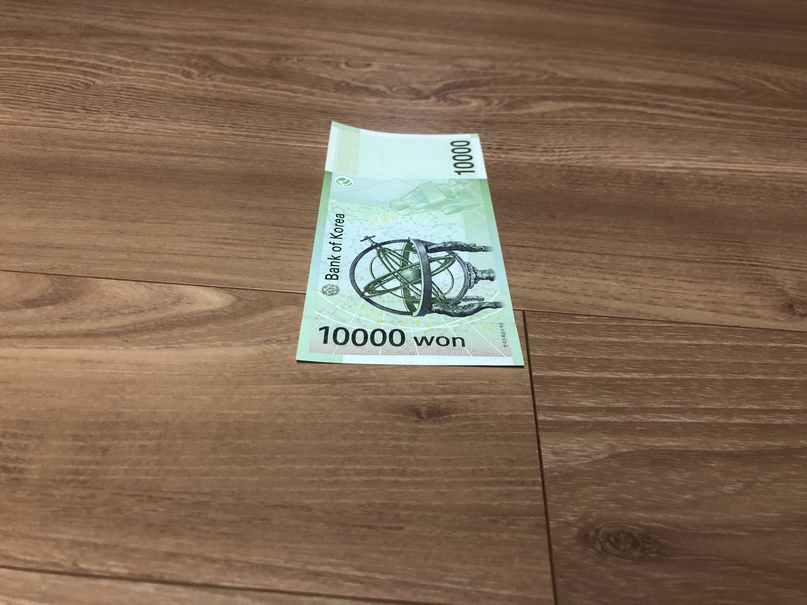10000won: (296, 121, 526, 370)
